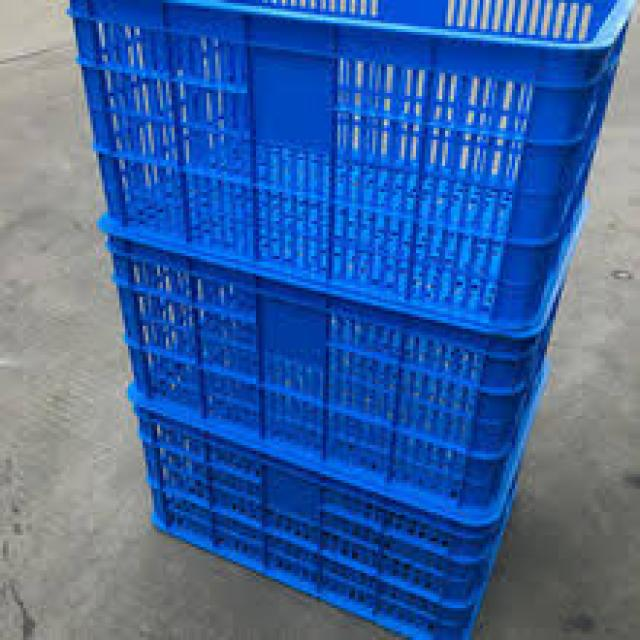basket: (69, 0, 634, 640)
